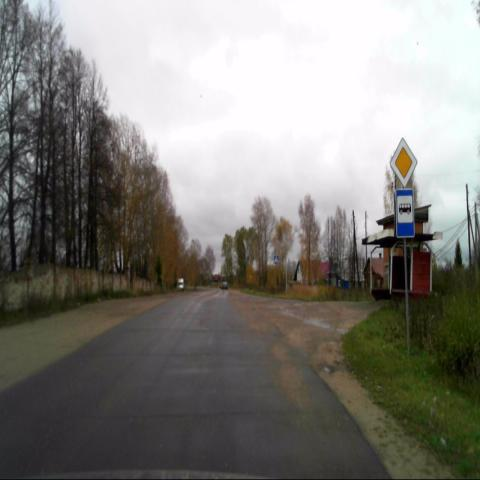5_16: (396, 189, 415, 237)
